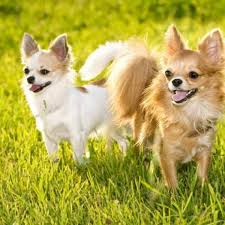Chihuahua: (12, 24, 133, 176), (142, 30, 225, 187)
